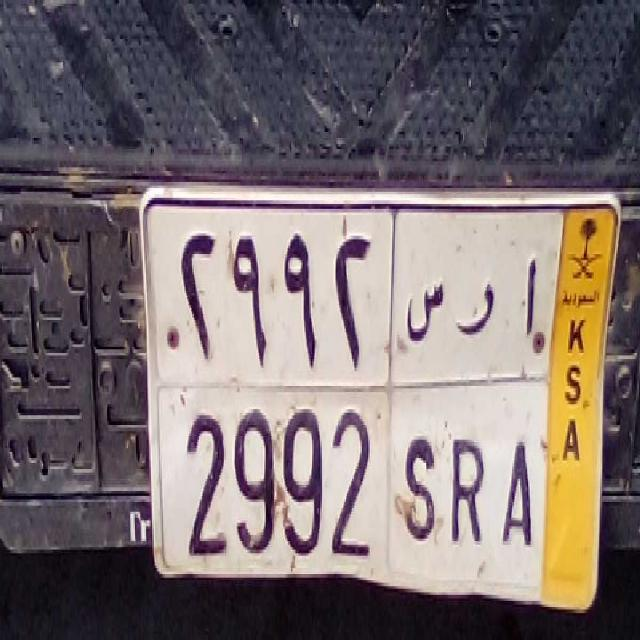license_plate: (162, 383, 546, 592)
